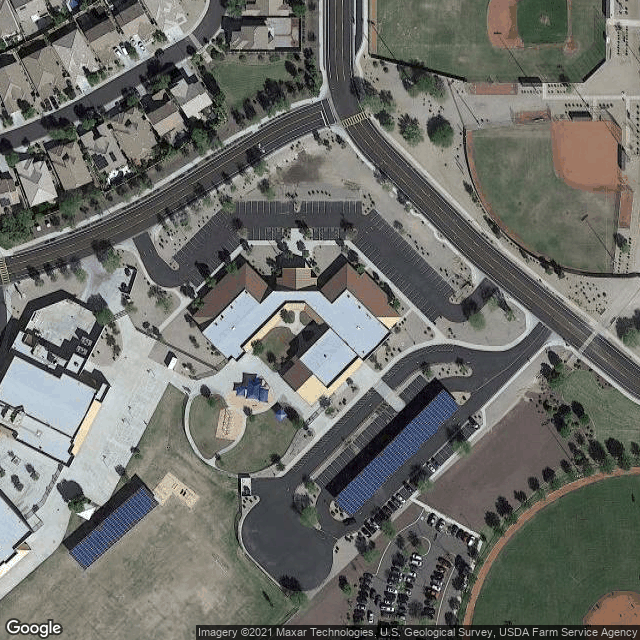carport-fixed: (330, 389, 461, 518), (69, 481, 158, 570)
